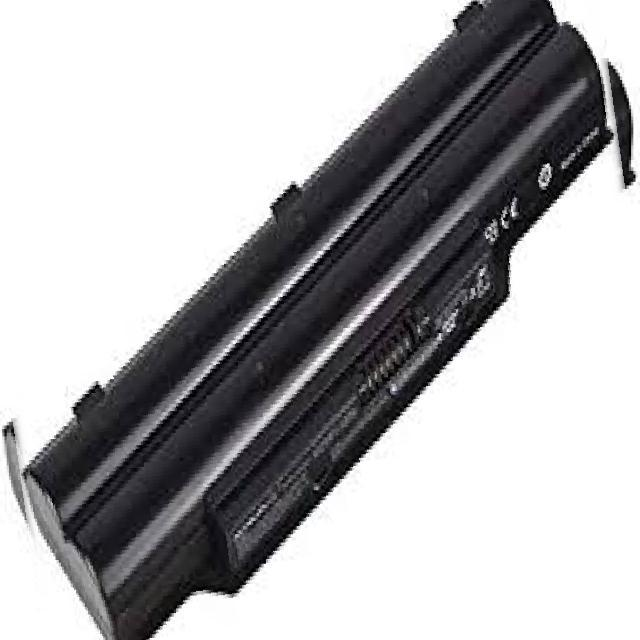Battery: (1, 0, 619, 639)
